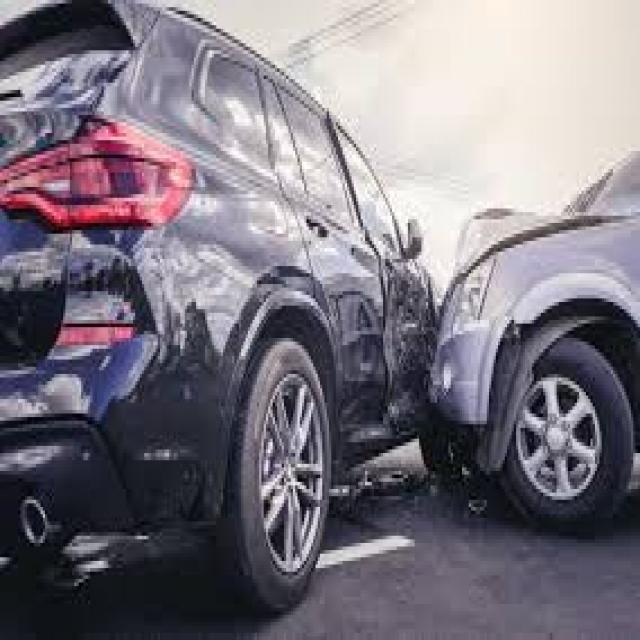accident: (198, 22, 612, 564)
